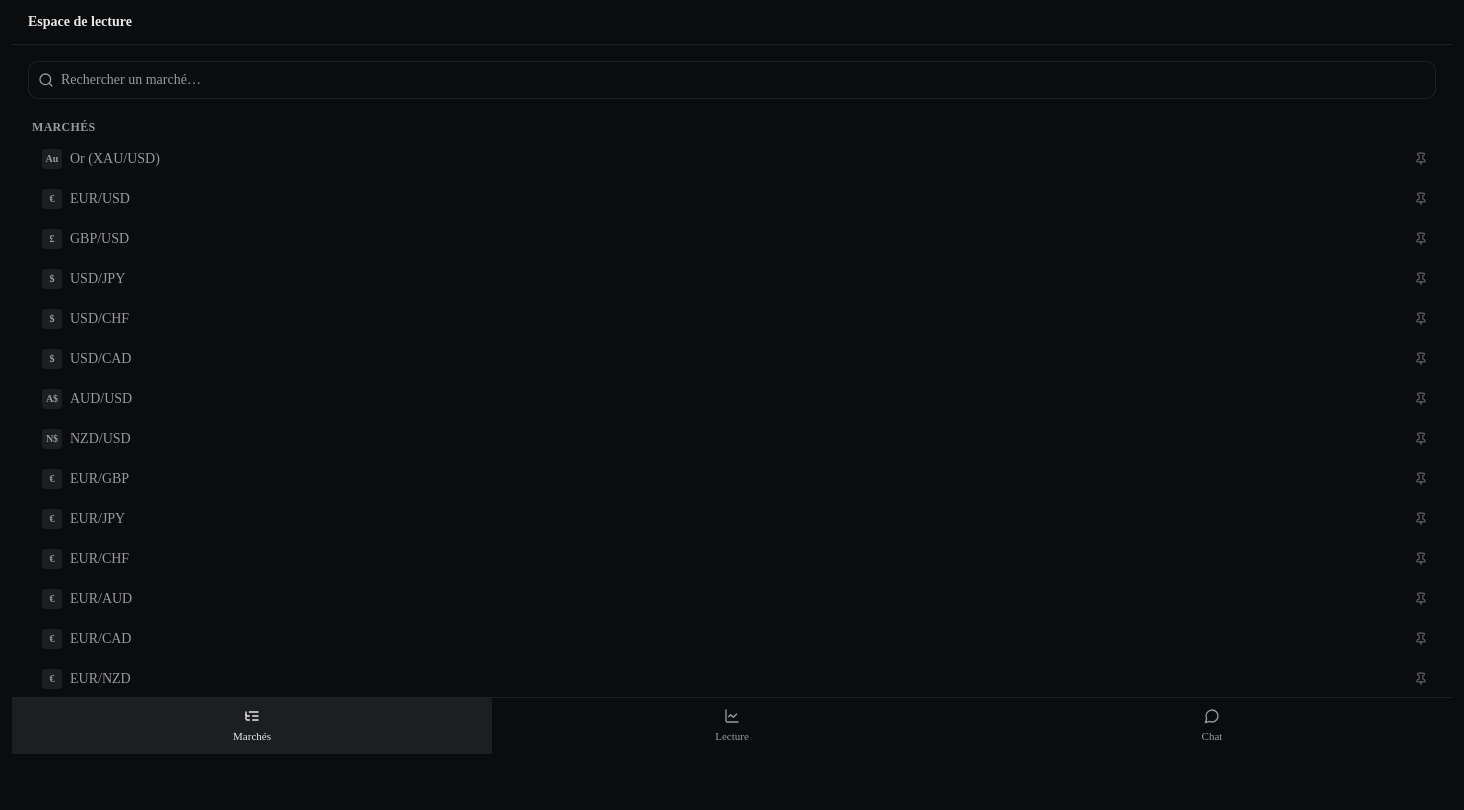
responsive layout — phone + tablet (<1280px) › jumps to the Lecture tab when a combo is selected
// First displayed combo is now XAUUSD M5 (M1 gated off → M5 leads the list).
Click the button "Au Or (XAU/USD)" at (115, 158), box [30,141,1406,177]
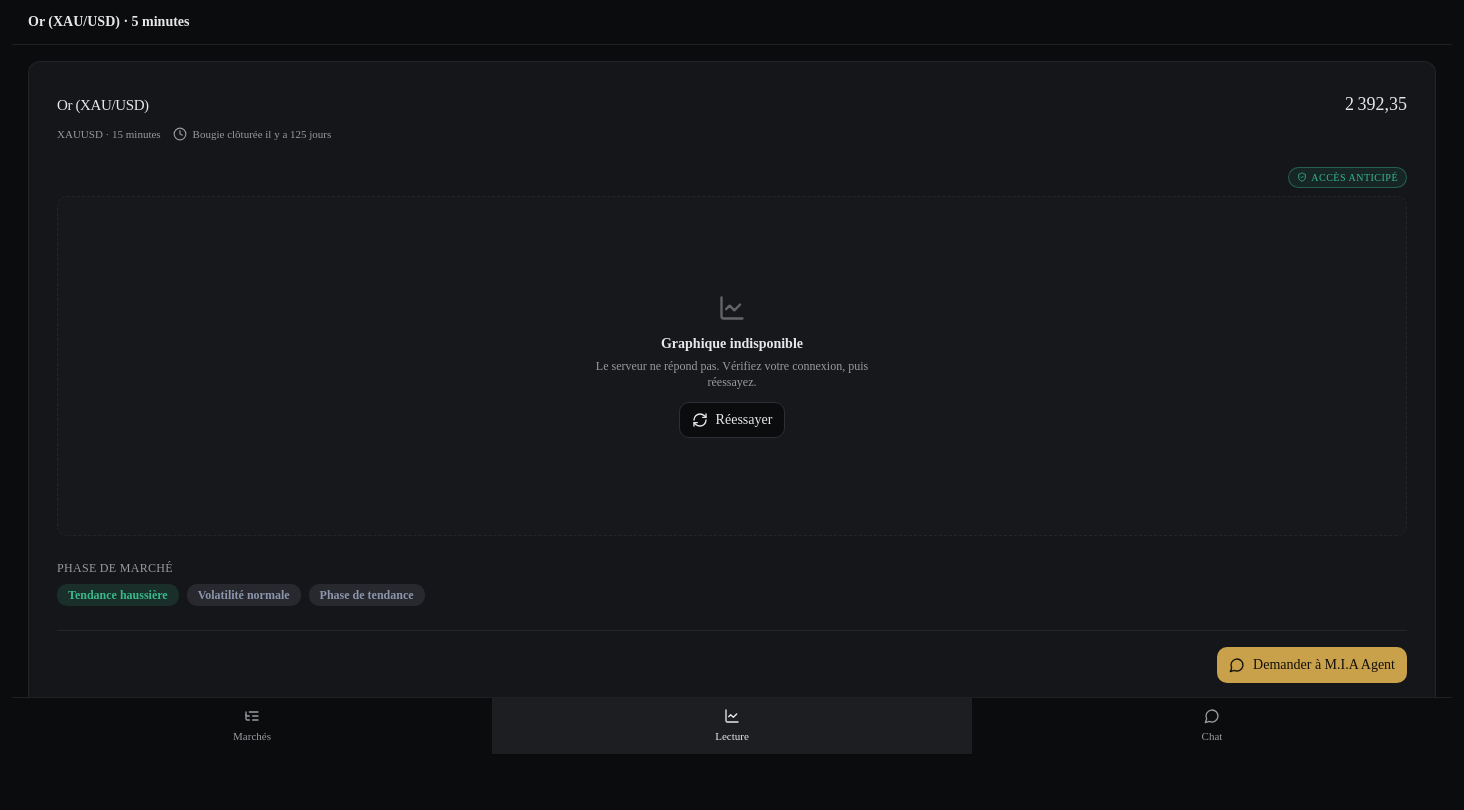
Expected: the text "Tendance haussière" is shown, [57,584,179,606]
Expected: the text "Or (XAU/USD) · 5 minutes" is shown, [28,14,190,29]
